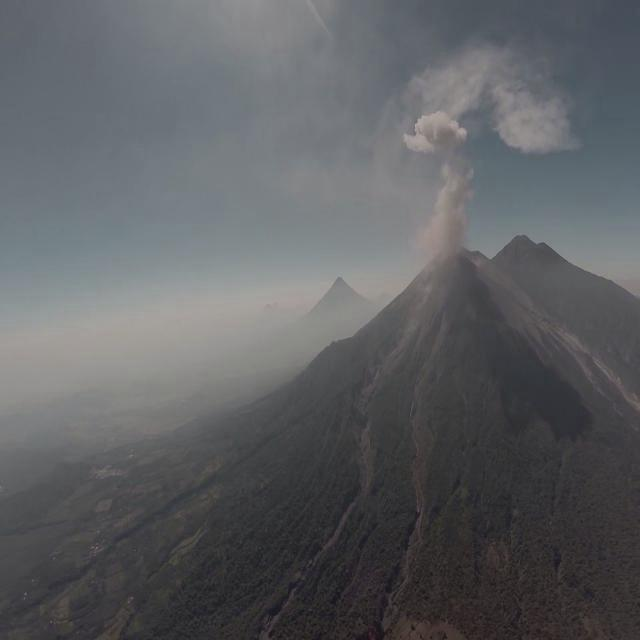Plume: (491, 66, 572, 158), (416, 157, 476, 261), (398, 104, 468, 158)
Summit: (409, 240, 488, 274)
